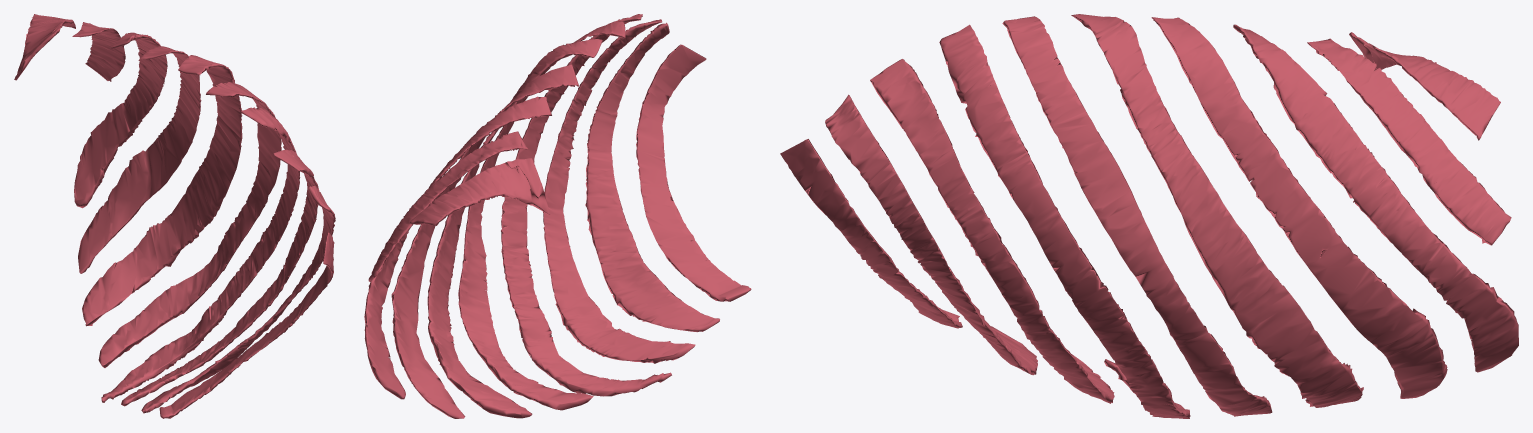
The picture shows the model from 3 angles, left to right: view 1: azimuth 30°, elevation 25°; view 2: azimuth 150°, elevation 25°; view 3: azimuth 270°, elevation 25°; orthographic projection. The views are drawn at different scales.
Parts seen in each view (by area): view 1: 左侧肋间内肌; view 2: 左侧肋间内肌; view 3: 左侧肋间内肌.
Boxes of the visible parts, <box> form: 左侧肋间内肌: <box>14,14,335,418</box>; 左侧肋间内肌: <box>364,14,751,418</box>; 左侧肋间内肌: <box>780,14,1518,418</box>.
Size of the model in its own units: 0.1848 by 0.3036 by 0.4859.
